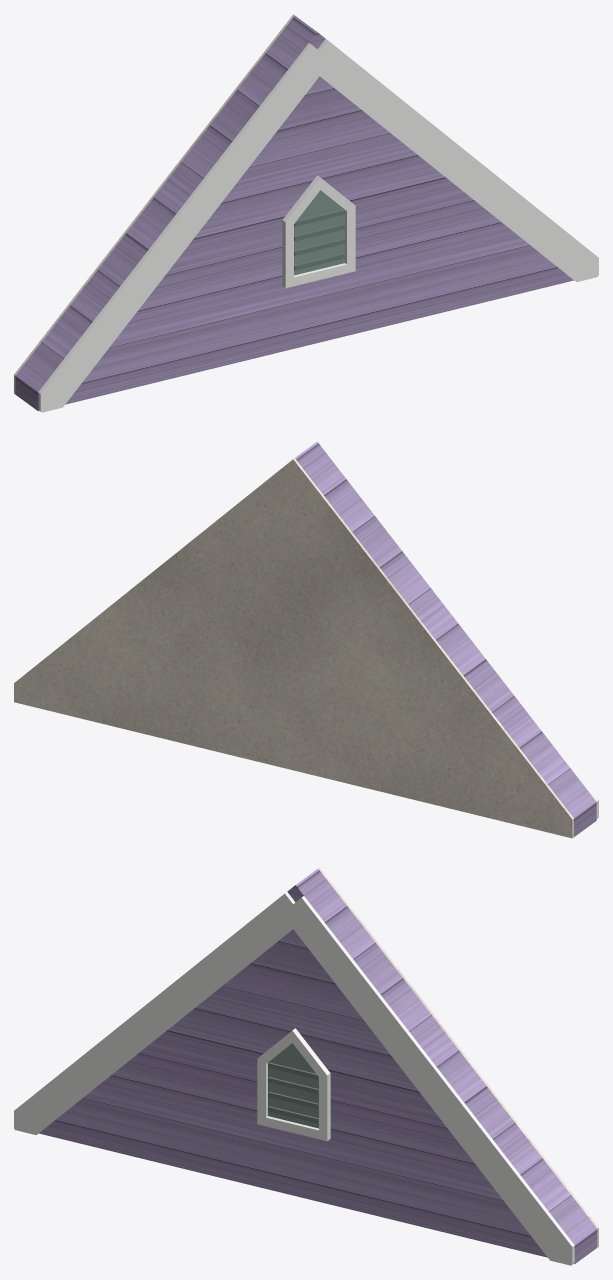
The model's file is gable_d.glb.
3 views of the same model, one above another, from view 1: azimuth 30°, elevation 25°; view 2: azimuth 150°, elevation 25°; view 3: azimuth 330°, elevation 25° (orthographic).
Visible parts, largest first — view 1: gable_d_siding_d, gable_d_trim, gable_d_shutter, gable_d_shutter_dark, gable_d_plaster; view 2: gable_d_plaster, gable_d_siding_d, gable_d_trim; view 3: gable_d_siding_d, gable_d_trim, gable_d_shutter, gable_d_shutter_dark, gable_d_plaster.
Part boxes in pixels (bbox=[...]): gable_d_siding_d: bbox=[15, 15, 573, 411]; gable_d_trim: bbox=[38, 39, 598, 412]; gable_d_shutter: bbox=[294, 190, 344, 275]; gable_d_shutter_dark: bbox=[294, 209, 344, 270]; gable_d_plaster: bbox=[14, 14, 294, 394]; gable_d_plaster: bbox=[14, 458, 573, 838]; gable_d_siding_d: bbox=[295, 441, 596, 836]; gable_d_trim: bbox=[326, 451, 598, 818]; gable_d_siding_d: bbox=[39, 868, 597, 1264]; gable_d_trim: bbox=[14, 892, 574, 1265]; gable_d_shutter: bbox=[268, 1043, 318, 1128]; gable_d_shutter_dark: bbox=[268, 1062, 318, 1123]; gable_d_plaster: bbox=[318, 867, 598, 1247].
Size of the model in its own units: 4 by 2.13 by 0.34.
Materials: 5 (2 with a texture image).
